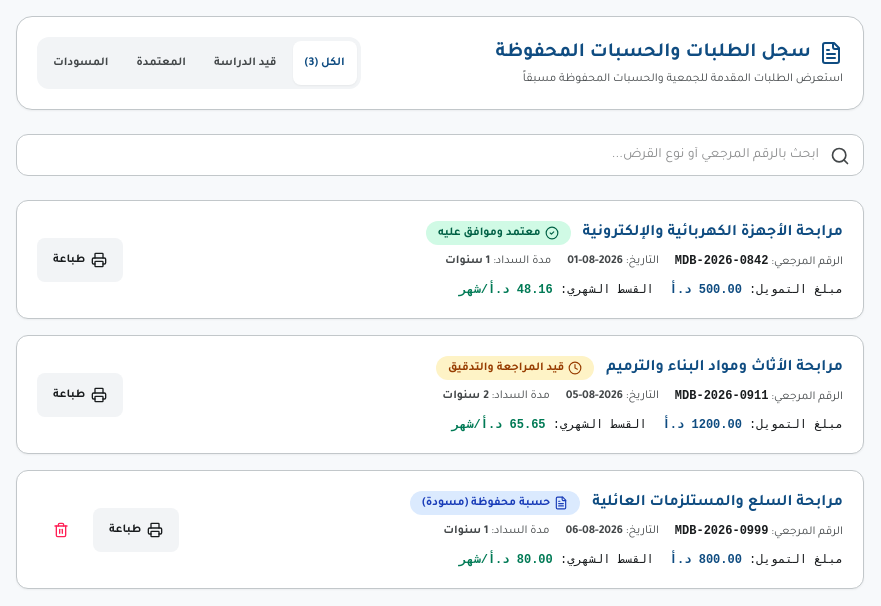
Test case: ApplicationsHistory › filters records by status
Expected: the text "مرابحة الأجهزة الكهربائية والإلكترونية" is shown, [583, 221, 843, 245]
Expected: the text "مرابحة الأثاث ومواد البناء والترميم" is shown, [606, 356, 843, 380]
Click the button "قيد الدراسة" at (245, 63), box [202, 41, 288, 85]
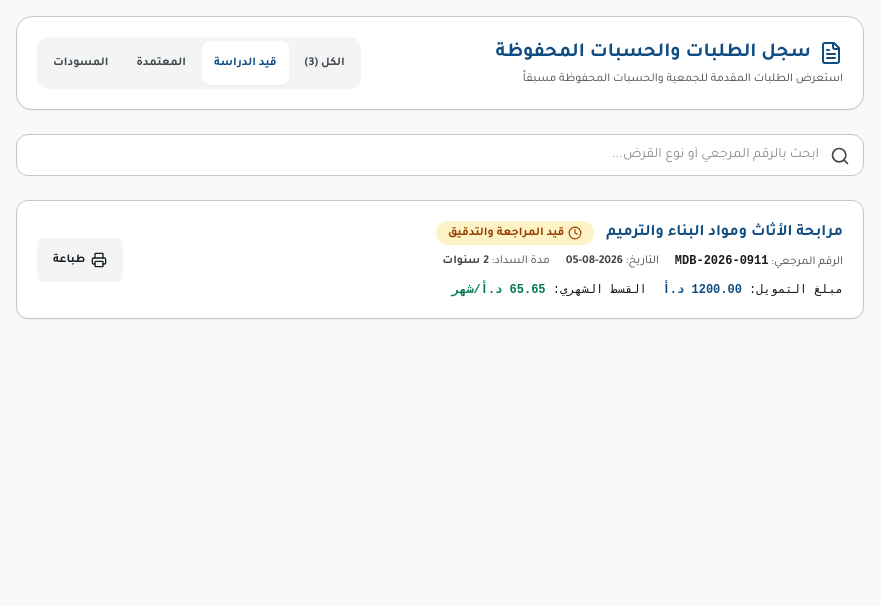
Expected: the text "مرابحة الأثاث ومواد البناء والترميم" is shown, [606, 221, 843, 245]
Now the text "مرابحة الأجهزة الكهربائية والإلكترونية" is gone
Click the button "المعتمدة" at (161, 63), box [124, 41, 198, 85]
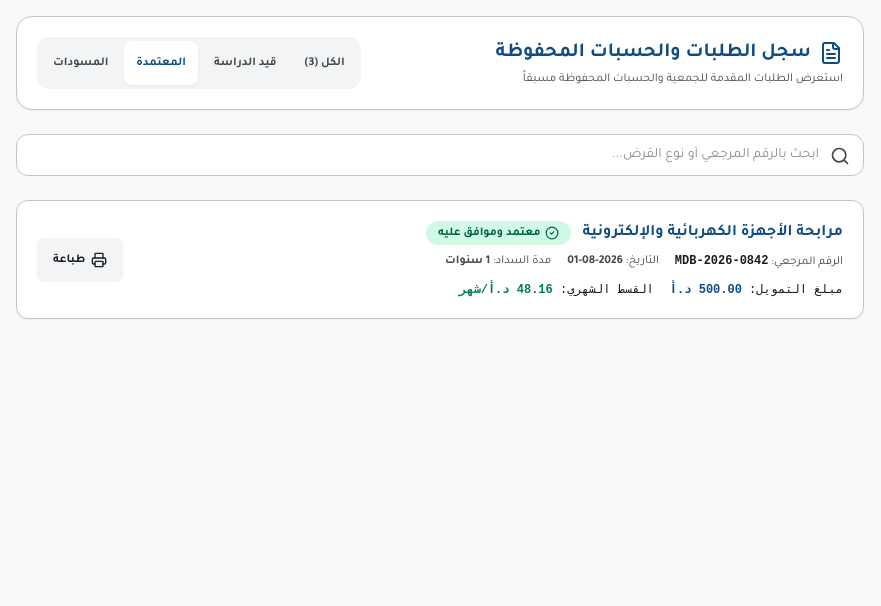
Now the text "مرابحة الأجهزة الكهربائية والإلكترونية" is shown, box [583, 221, 843, 245]
Now the text "مرابحة الأثاث ومواد البناء والترميم" is gone
Click the button "المسودات" at (81, 63), box [41, 41, 120, 85]
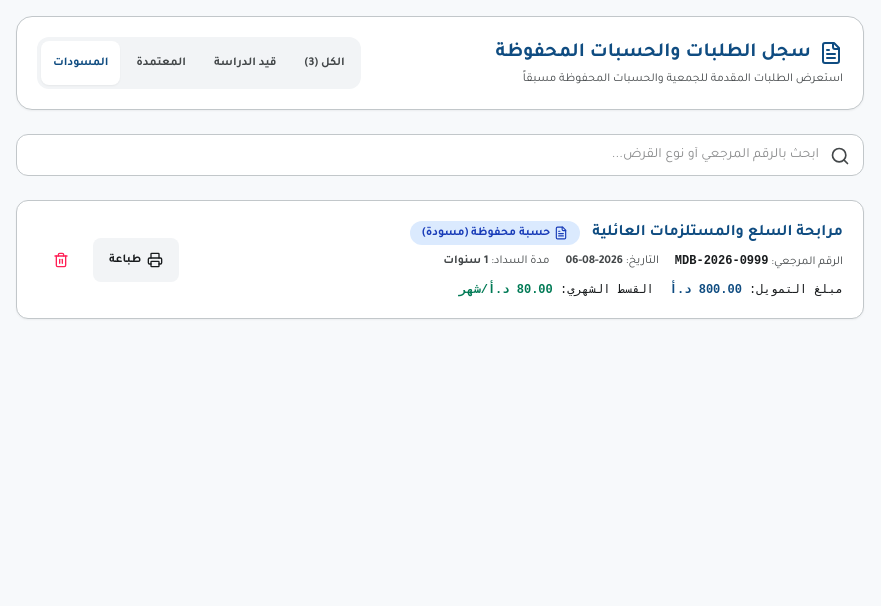
Now the text "مرابحة السلع والمستلزمات العائلية" is shown, box [592, 221, 843, 245]
Now the text "مرابحة الأجهزة الكهربائية والإلكترونية" is gone
Click the button "الكل (3)" at (325, 63), box [293, 41, 357, 85]
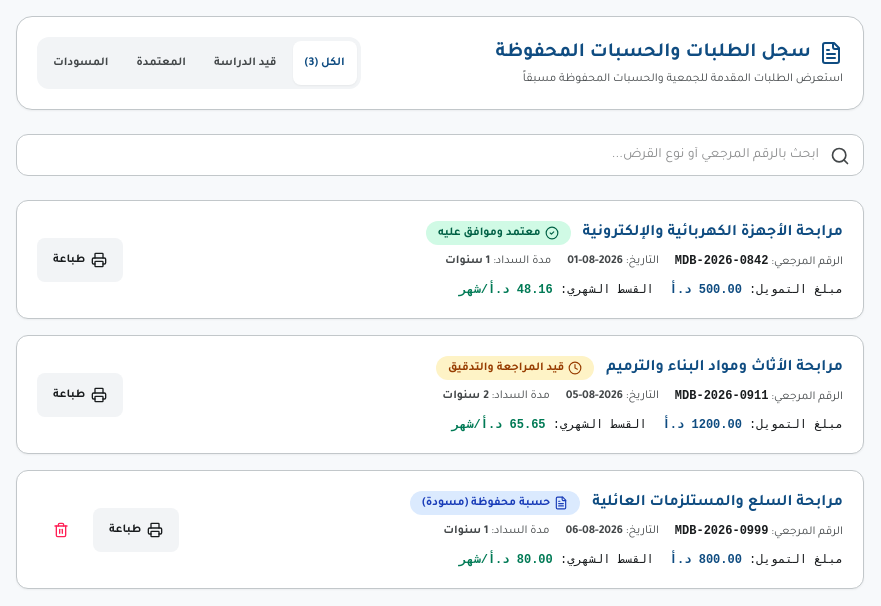
Now the text "مرابحة الأثاث ومواد البناء والترميم" is shown, box [606, 356, 843, 380]
